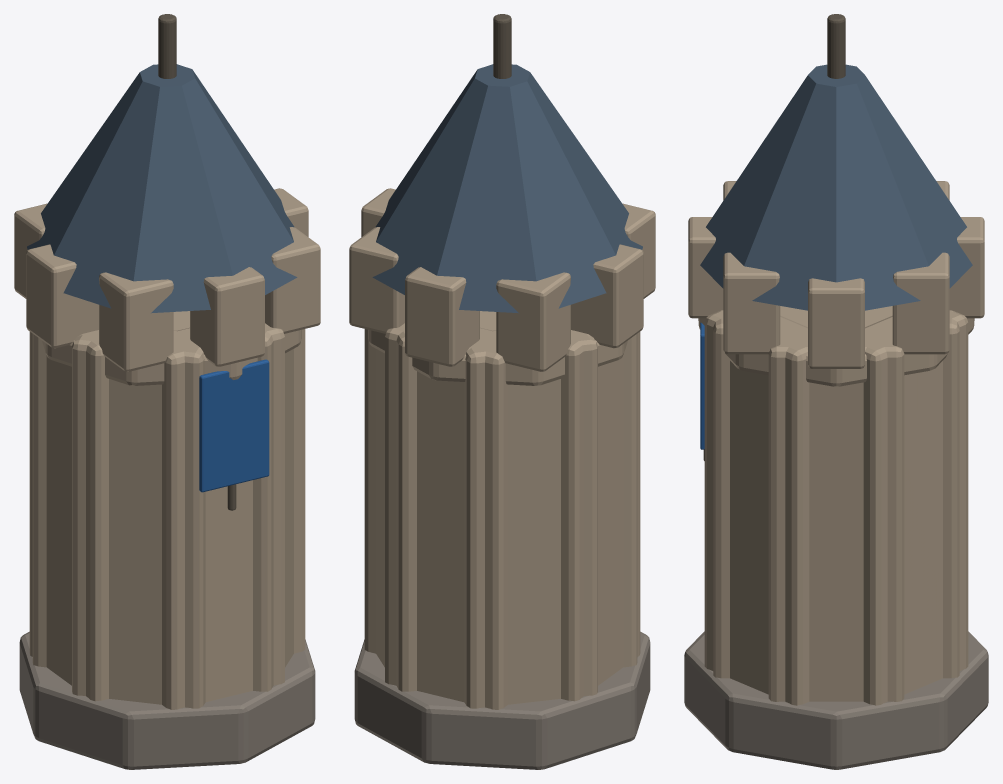
File: Valoria_Tower_DefV1.glb
3 renders of one model, left to right at view 1: azimuth 30°, elevation 25°; view 2: azimuth 150°, elevation 25°; view 3: azimuth 270°, elevation 25°, orthographic.
Parts seen in each view (by area): view 1: Tower slate crown, Tower faceted wall.005, Tower faceted wall.004, Tower plinth, Tower faceted wall.006, Tower heraldry cloth, Tower faceted wall.003, Tower crown merlon.005, Tower crown merlon.004, Tower crown merlon.006, Tower faceted wall.007, Tower crown merlon.003 (+5 smaller); view 2: Tower slate crown, Tower faceted wall.007, Tower faceted wall, Tower plinth, Tower faceted wall.006, Tower faceted wall.001, Tower crown merlon.007, Tower crown merlon, Tower crown merlon.006, Tower faceted wall.005, Tower crown merlon.001, Tower faceted wall.002 (+4 smaller); view 3: Tower slate crown, Tower faceted wall.002, Tower faceted wall.003, Tower faceted wall.001, Tower plinth, Tower faceted wall, Tower faceted wall.004, Tower crown merlon.002, Tower crown merlon.001, Tower crown merlon.003, Tower cornice, Tower crown merlon (+3 smaller).
Boxes of the visible parts, x1,y1,x2,y2 form: Tower slate crown: [27, 64, 297, 313]; Tower faceted wall.005: [72, 330, 205, 708]; Tower faceted wall.004: [162, 327, 284, 709]; Tower plinth: [19, 631, 315, 769]; Tower faceted wall.006: [29, 330, 108, 701]; Tower heraldry cloth: [199, 359, 269, 492]; Tower faceted wall.003: [253, 323, 293, 691]; Tower crown merlon.005: [99, 272, 173, 371]; Tower crown merlon.004: [190, 267, 264, 366]; Tower crown merlon.006: [26, 244, 98, 348]; Tower faceted wall.007: [32, 334, 46, 667]; Tower crown merlon.003: [265, 227, 320, 333]; Tower slate crown: [372, 64, 642, 313]; Tower faceted wall.007: [464, 330, 597, 708]; Tower faceted wall: [385, 327, 507, 709]; Tower plinth: [354, 631, 650, 769]; Tower faceted wall.006: [561, 330, 640, 701]; Tower faceted wall.001: [376, 323, 416, 691]; Tower crown merlon.007: [496, 272, 570, 371]; Tower crown merlon: [405, 267, 479, 366]; Tower crown merlon.006: [571, 244, 643, 348]; Tower faceted wall.005: [623, 334, 637, 667]; Tower crown merlon.001: [349, 227, 404, 333]; Tower faceted wall.002: [364, 329, 375, 653]; Tower slate crown: [700, 64, 972, 310]; Tower faceted wall.002: [768, 328, 904, 701]; Tower faceted wall.003: [704, 311, 809, 705]; Tower faceted wall.001: [863, 311, 968, 705]; Tower plinth: [684, 631, 988, 769]; Tower faceted wall: [943, 310, 959, 678]; Tower faceted wall.004: [713, 310, 729, 678]; Tower crown merlon.002: [808, 278, 864, 368]; Tower crown merlon.001: [892, 252, 949, 354]; Tower crown merlon.003: [723, 252, 780, 354]; Tower cornice: [698, 306, 974, 386]; Tower crown merlon: [949, 217, 984, 318].
Bounding box in the file's own units: 1.7 × 4.27 × 1.7.
